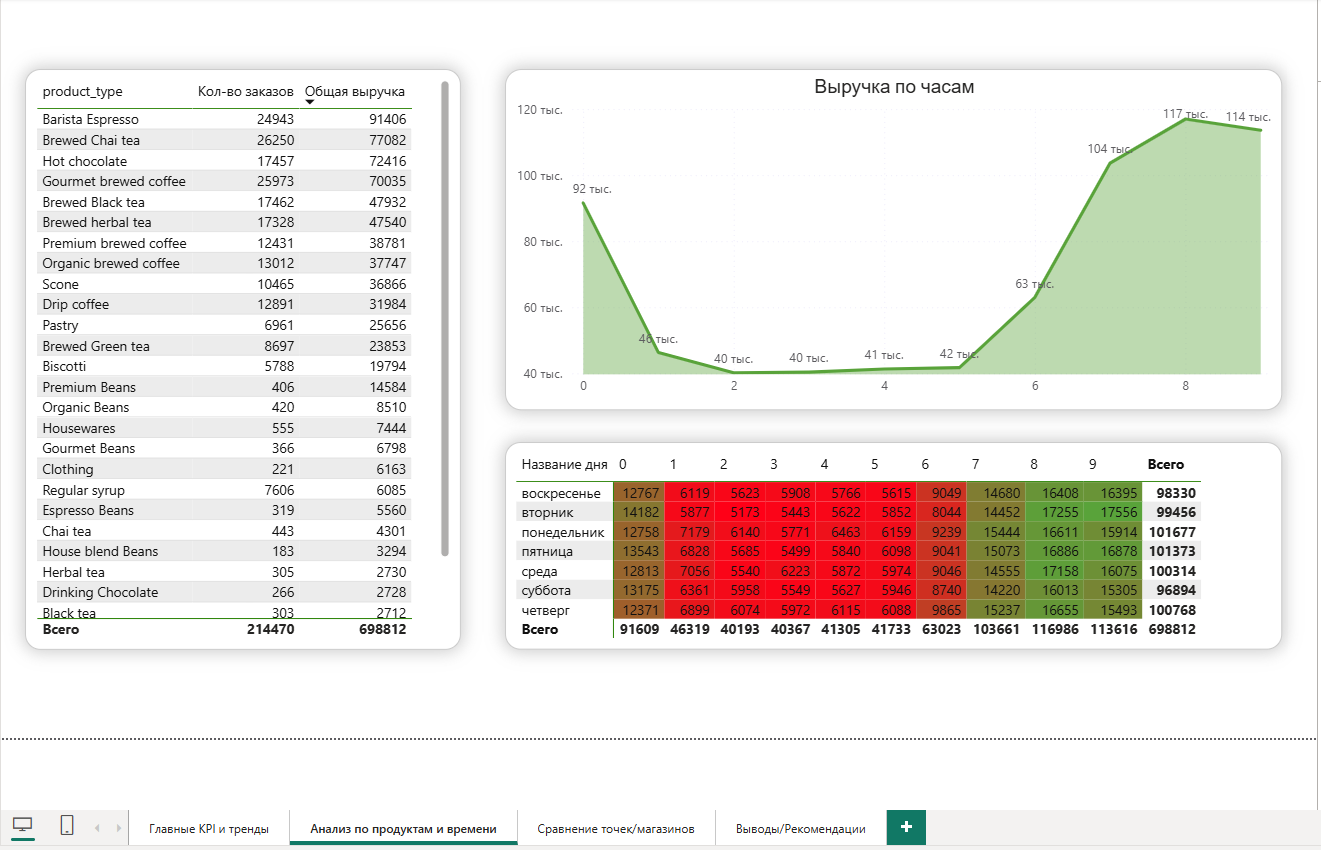

The dashboard page shown, as its layout file describes it:
{"tool":"powerbi","page":{"name":"Анализ по продуктам и времени","canvas":[1280,720],"ordinal":1},"visuals":[{"type":"tableEx","fields":{"Values":["Transactions.product_type","DAX.Кол-во заказов","DAX.Общая выручка"]},"box":[23,69,424,565],"z":0},{"type":"pivotTable","fields":{"Values":["DAX.Общая выручка"],"Rows":["Transactions.Название дня"],"Columns":["Transactions.Час"]},"box":[490,432,756,202],"z":1000},{"type":"lineChart","title":"Выручка по часам","fields":{"Y":["DAX.Общая выручка"],"Category":["Transactions.Час"]},"box":[490,69,756,332],"z":2000}]}

Visuals, with their boxes on the page's 1280x720 design canvas (x1, y1, x2, y2). These are canvas units, not pixel positions in the 1321x850 screenshot, which may show the page scaled, cropped or inside an application window:
tableEx - Transactions.product_type x DAX.Кол-во заказов: select_region(23, 69, 447, 634)
pivotTable - DAX.Общая выручка x Transactions.Название дня: select_region(490, 432, 1246, 634)
"Выручка по часам" lineChart: select_region(490, 69, 1246, 401)
